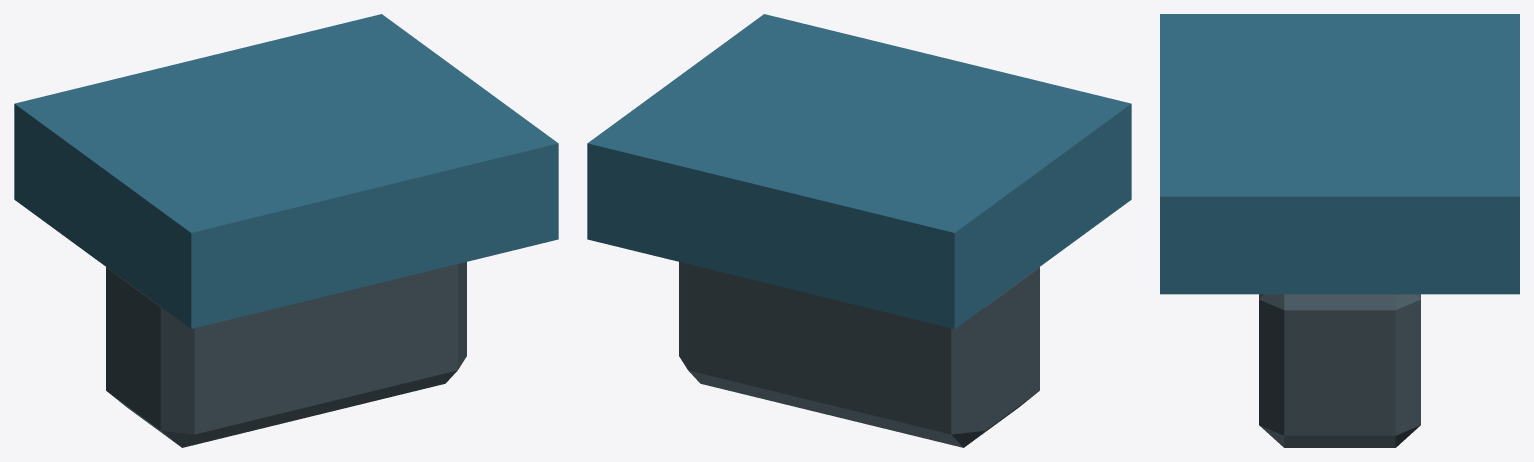
Rendered from set_folded_shirts.glb.
3 views of the same model, side by side, from view 1: azimuth 30°, elevation 25°; view 2: azimuth 150°, elevation 25°; view 3: azimuth 270°, elevation 25° (orthographic).
Parts seen in each view (by area): view 1: set_folded_shirts; view 2: set_folded_shirts; view 3: set_folded_shirts.
Boxes of the visible parts, x1,y1,x2,y2 form: set_folded_shirts: (14, 14, 558, 447); set_folded_shirts: (587, 14, 1131, 447); set_folded_shirts: (1160, 14, 1519, 447).
Bounding box in the file's own units: 0.24 × 0.17 × 0.2.
